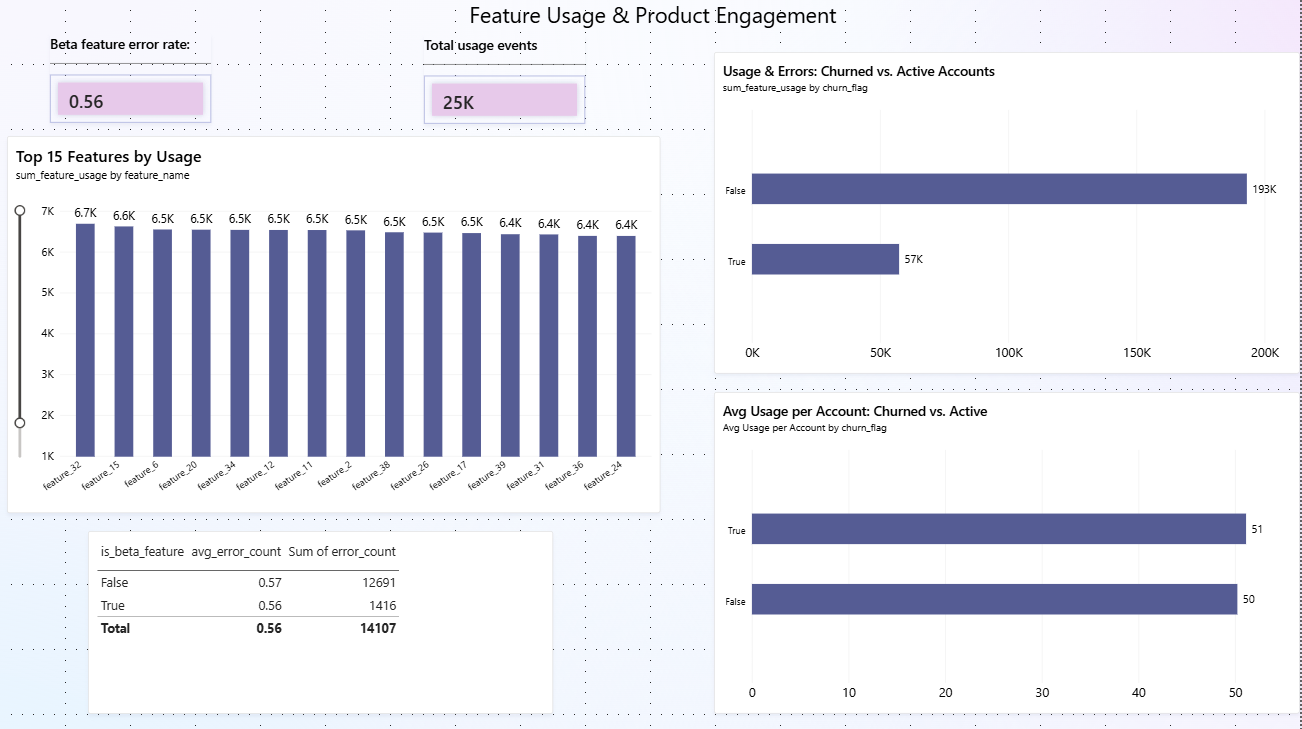

Layout of this report page (visuals, bound fields, positions):
{"tool":"powerbi","page":{"name":"Page 5","canvas":[1920,1080],"ordinal":4},"visuals":[{"type":"textbox","box":[9.5,0,1910.5,53.6],"z":0},{"type":"cardVisual","title":"  Beta feature error rate:","fields":{"Data":["_Measures.Beta Error Rate"]},"box":[73.3,51.7,238,130.8],"z":1000},{"type":"cardVisual","title":" Total usage events","fields":{"Data":["_Measures.Total Usage Events"]},"box":[626.7,53.3,238,130.8],"z":2000},{"type":"clusteredColumnChart","title":"Top 15 Features by Usage","fields":{"Category":["feature_usage.feature_name"],"Y":["_Measures.sum_feature_usage"]},"box":[10,201.7,965,556.7],"z":3000},{"type":"clusteredBarChart","title":"Usage & Errors: Churned vs. Active Accounts","fields":{"Y":["_Measures.sum_feature_usage"],"Category":["accounts.churn_flag"]},"box":[1055,78.3,865,475],"z":4000},{"type":"tableEx","fields":{"Values":["feature_usage.is_beta_feature","_Measures.avg_error_count","Sum(feature_usage.error_count)"]},"box":[130,785,686.7,270],"z":5000},{"type":"clusteredBarChart","title":"Avg Usage per Account: Churned vs. Active","fields":{"Category":["accounts.churn_flag"],"Y":["_Measures.Avg Usage per Account"]},"box":[1055,580,865,475],"z":6000}]}

Visuals, with their boxes in screenshot pixels (x1, y1, x2, y2), scaled from the page's 1920x1080 canvas onto the 1302x729 screenshot:
textbox: select_region(6, 0, 1301, 36)
"  Beta feature error rate:" cardVisual: select_region(50, 35, 211, 123)
" Total usage events" cardVisual: select_region(425, 36, 586, 124)
"Top 15 Features by Usage" clusteredColumnChart: select_region(7, 136, 661, 512)
"Usage & Errors: Churned vs. Active Accounts" clusteredBarChart: select_region(715, 53, 1301, 373)
tableEx - feature_usage.is_beta_feature x _Measures.avg_error_count: select_region(88, 530, 554, 712)
"Avg Usage per Account: Churned vs. Active" clusteredBarChart: select_region(715, 392, 1301, 712)
